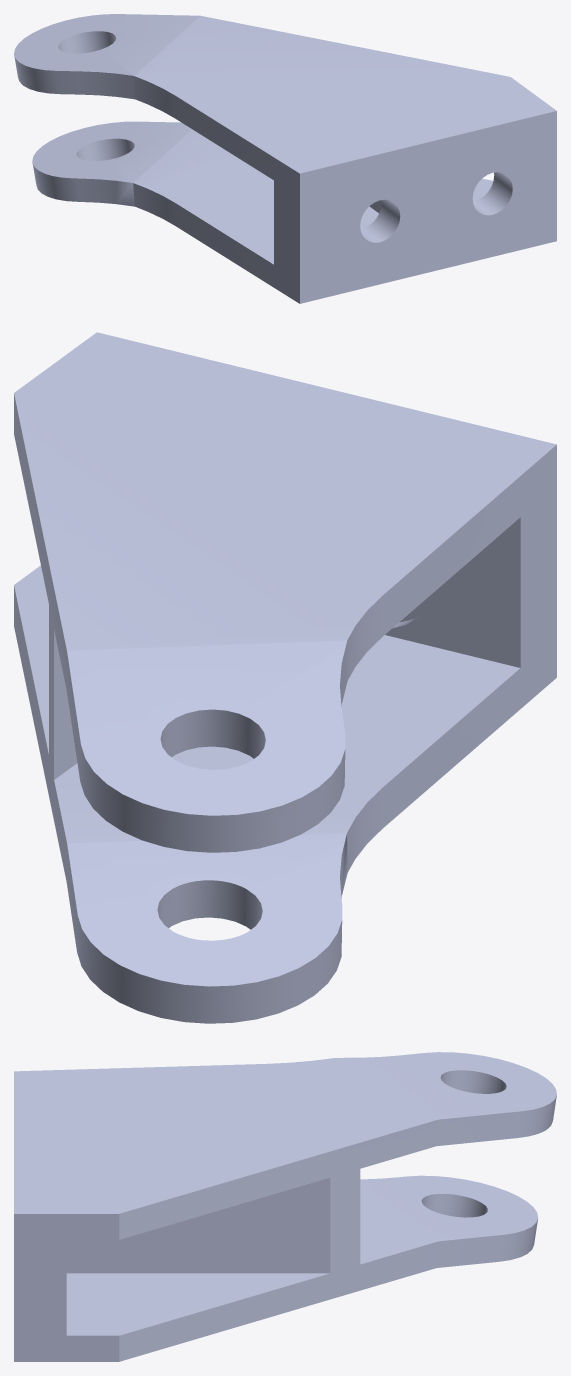
File: Rear_Left_Corner_Wheel_Assembly__UA_26_Rear_Left_Tie_Rod_Tab_1.dae
The picture shows the model from 3 angles, top to bottom: view 1: azimuth 30°, elevation 25°; view 2: azimuth 150°, elevation 25°; view 3: azimuth 270°, elevation 25°; orthographic projection. The views are drawn at different scales.
Parts seen in each view (by area): view 1: node0; view 2: node0; view 3: node0.
Part boxes in pixels (bbox=[...]): node0: bbox=[14, 14, 556, 303]; node0: bbox=[14, 332, 556, 1023]; node0: bbox=[14, 1052, 556, 1361].
Size of the model in its own units: 0.0412 by 0.0182 by 0.0515.
